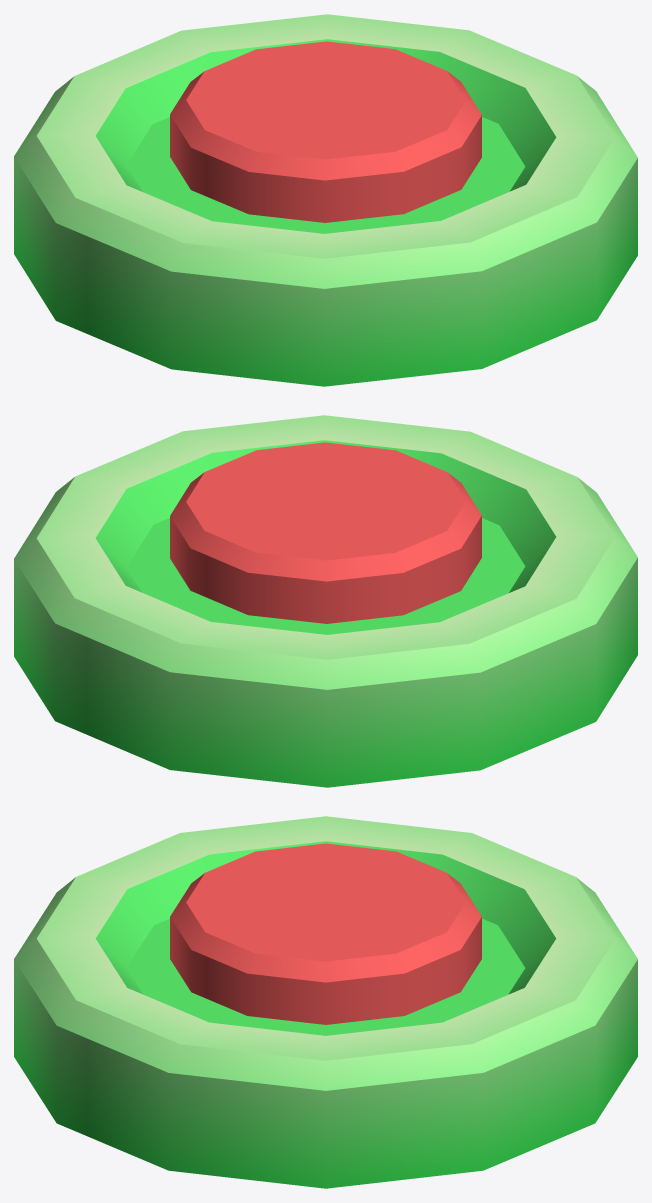
Rendered from Mine.fbx.
3 renders of one model, top to bottom at view 1: azimuth 30°, elevation 25°; view 2: azimuth 150°, elevation 25°; view 3: azimuth 270°, elevation 25°, orthographic.
Visible parts, largest first — view 1: Mine; view 2: Mine; view 3: Mine.
Part boxes in pixels (left/top/right/bottom): Mine: left=14, top=14, right=637, bottom=386; Mine: left=14, top=415, right=637, bottom=787; Mine: left=14, top=816, right=637, bottom=1188.
Bounding box in the file's own units: 40 × 10.92 × 40.
Materials: 1 (1 with a texture image).
